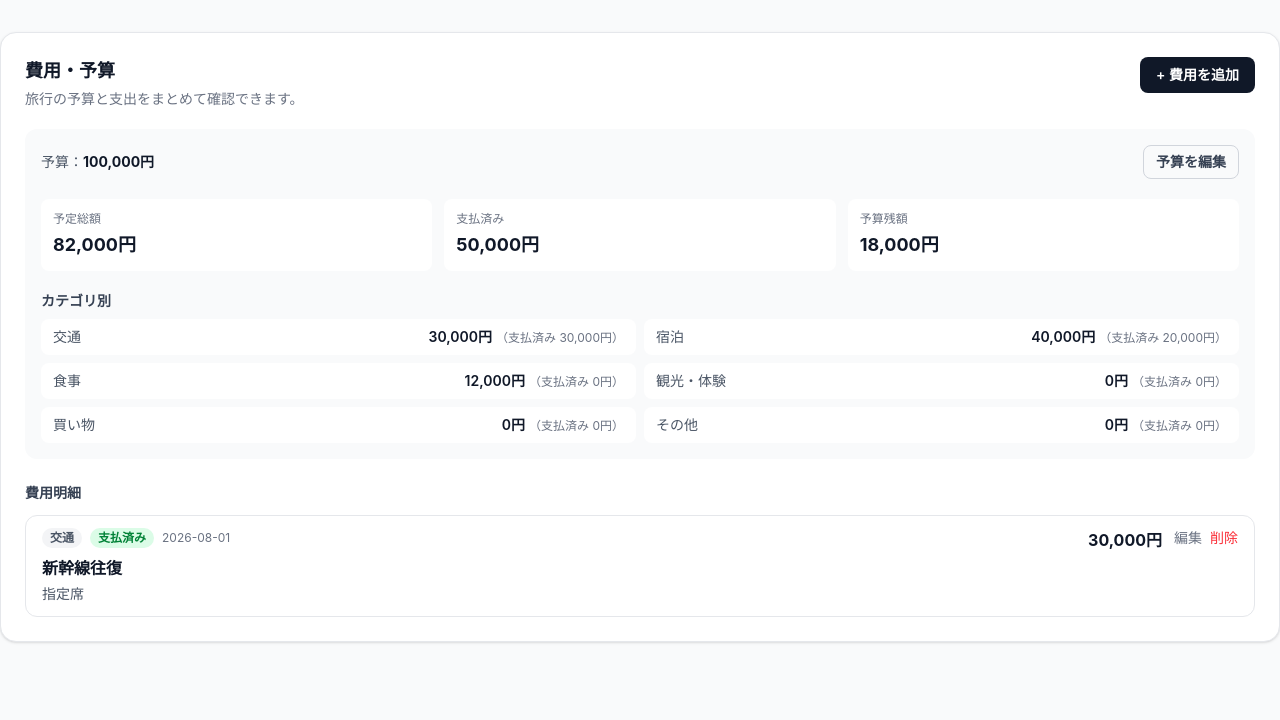
Test: ExpenseList › 費用を削除すると確認後に再取得して明細から除外する
Expected: the heading "新幹線往復" is shown, [42, 558, 122, 578]
Click the button "削除" at (1224, 538), box [1210, 528, 1238, 548]
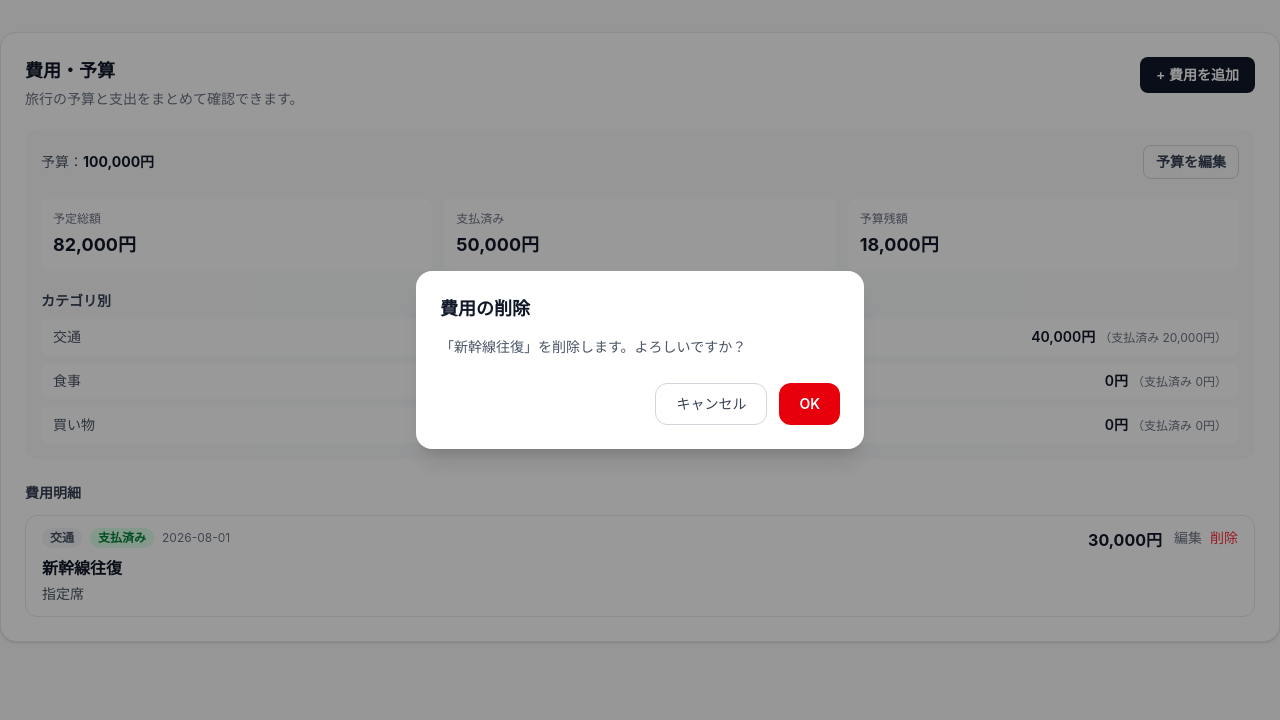
Click the button "OK" at (810, 404), box [779, 383, 840, 425]
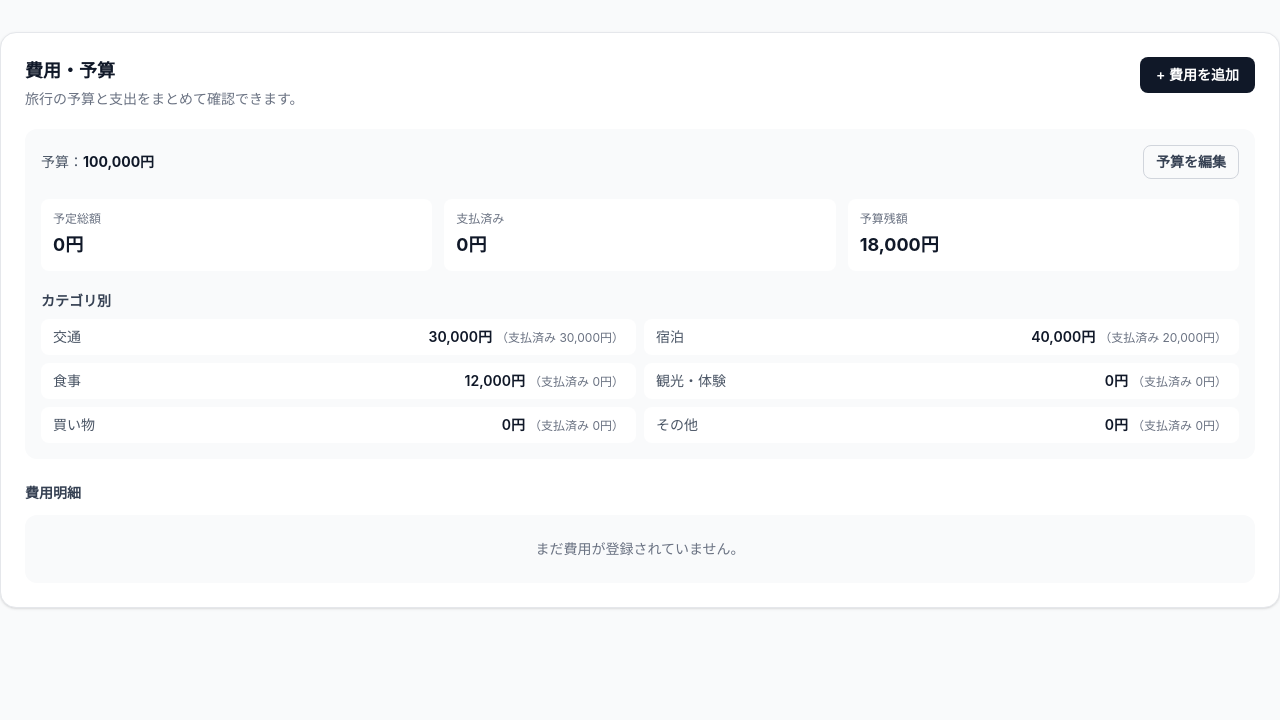
Expected: the heading "新幹線往復" is gone
